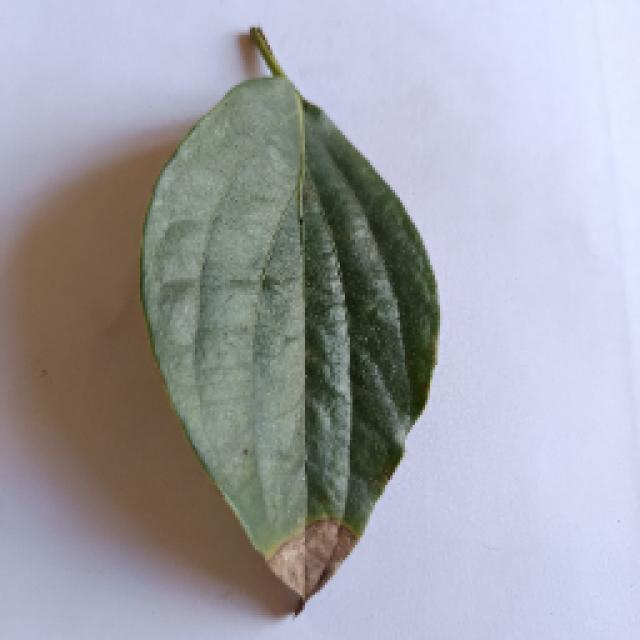footrot: (132, 32, 442, 618)
